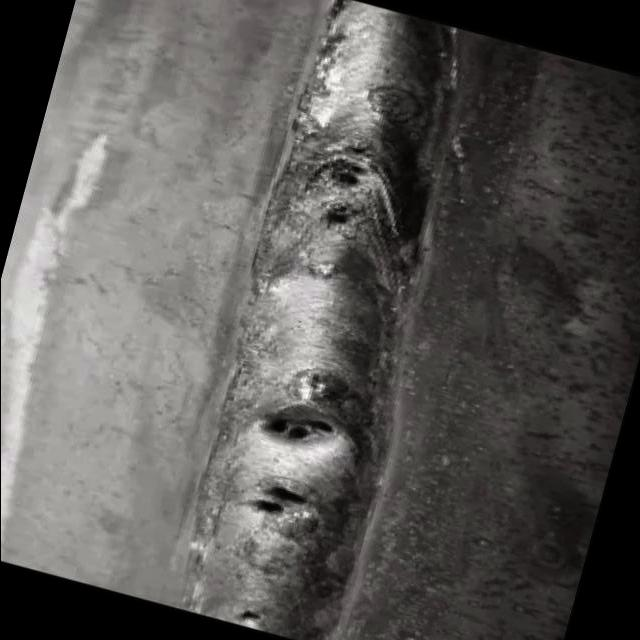defect: (239, 482, 316, 525), (254, 413, 344, 448), (324, 143, 372, 194), (313, 194, 360, 233), (233, 608, 266, 630)
